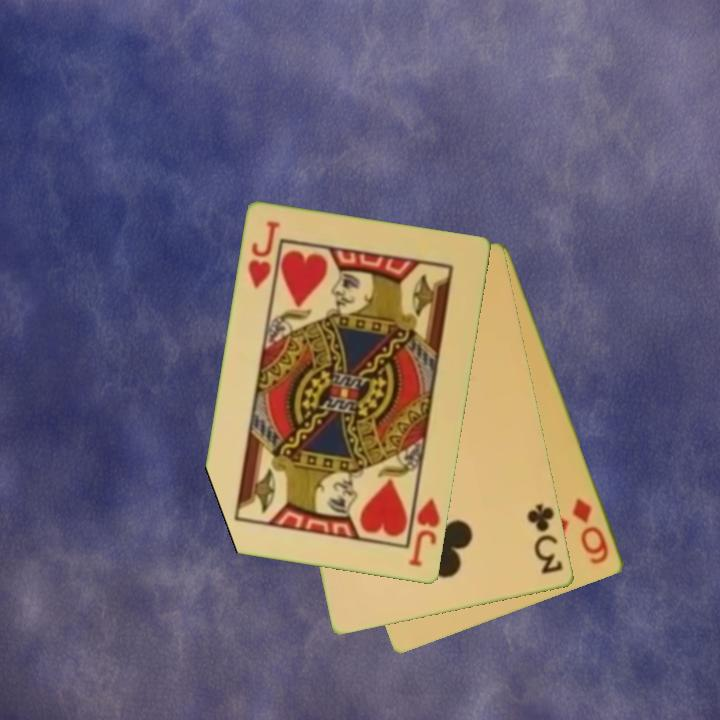3c: (524, 500, 566, 577)
6d: (569, 495, 612, 568)
Jh: (404, 487, 444, 570), (244, 218, 283, 291)
